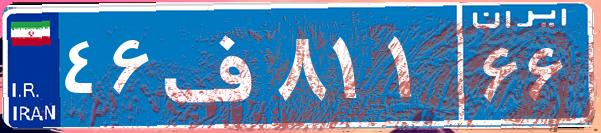1: (385, 28, 445, 110), (330, 28, 385, 110)
4: (57, 26, 110, 107)
6: (475, 38, 525, 113), (110, 28, 158, 105), (525, 38, 570, 115)
8: (273, 28, 330, 110)
ف: (158, 15, 273, 115)
